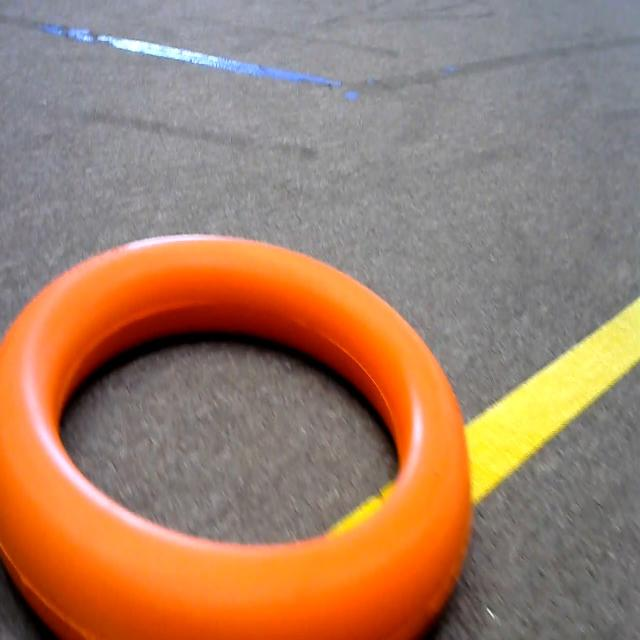note: (0, 223, 478, 640)
